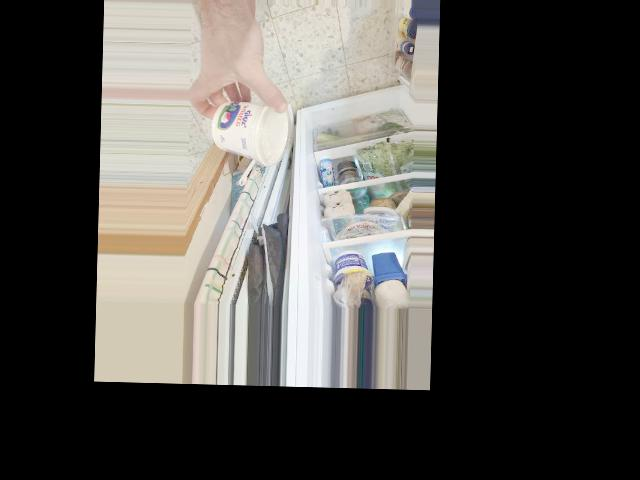cotage: (208, 88, 292, 168)
